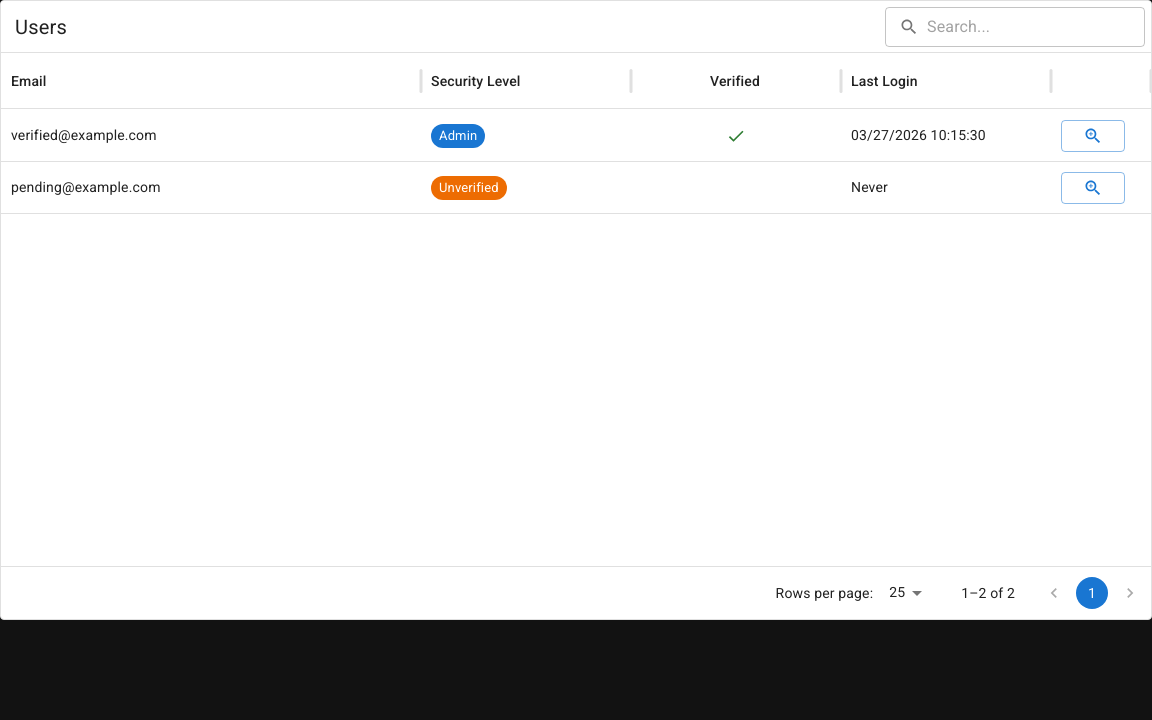
Test: <UsersPage /> › Should open the details dialog for a user who never logged in
Expected: the text "pending@example.com" is shown, [1,161,421,213]
Step 1. Click the button without text in the row of "pending@example.com" → (1093, 188), box [1061,172,1125,204]
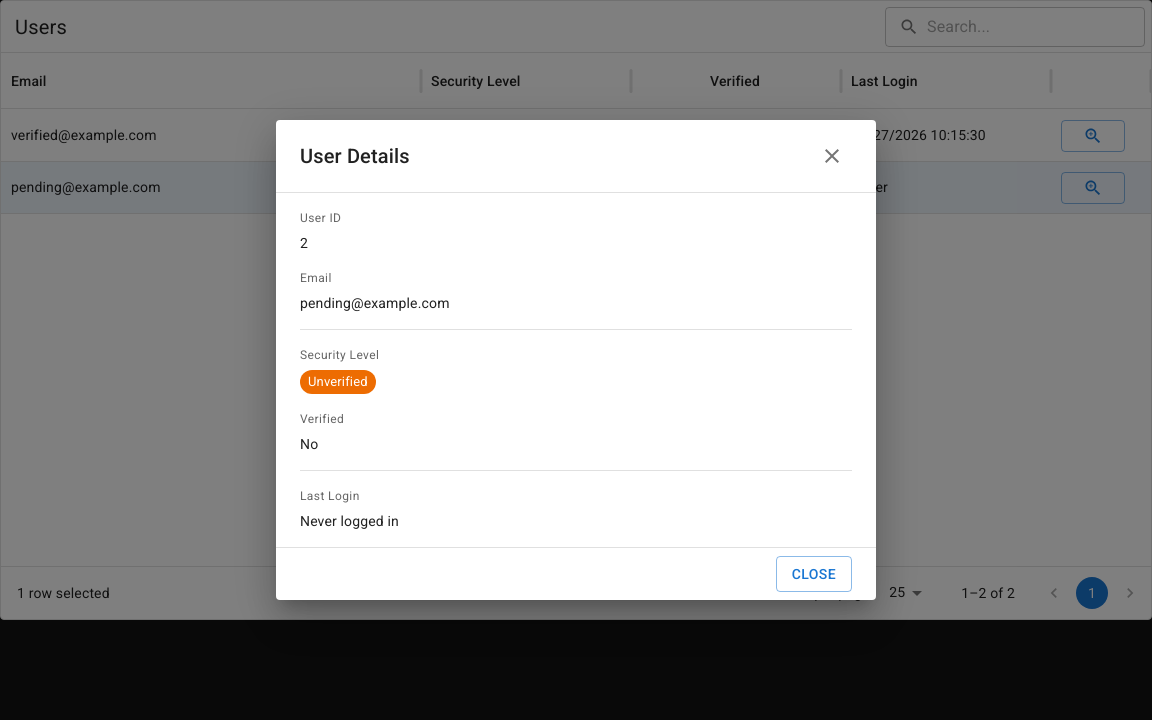
Now the text "pending@example.com" is shown, box [300,295,450,311]
Now the text "Never logged in" is shown, box [300,512,399,528]
Now the text "No" is shown, box [300,436,318,452]
